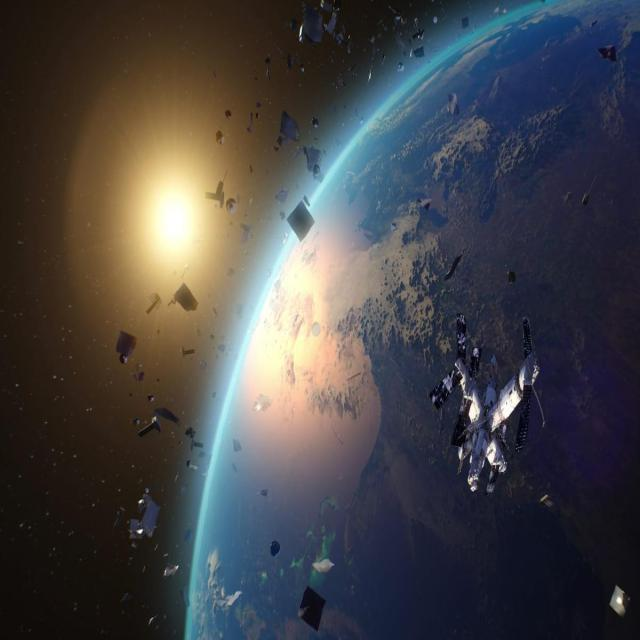large_debris: (283, 0, 354, 52), (129, 494, 159, 540), (298, 587, 325, 632), (286, 200, 314, 241), (303, 145, 324, 182), (208, 333, 236, 360), (367, 24, 386, 62), (173, 282, 197, 311), (115, 330, 135, 364), (611, 585, 631, 619), (444, 248, 465, 280), (279, 109, 300, 140), (204, 176, 225, 207), (137, 416, 161, 438), (153, 408, 180, 426), (582, 173, 597, 205), (252, 393, 273, 410), (145, 292, 161, 314), (111, 507, 124, 532), (598, 44, 617, 61), (243, 187, 253, 219), (388, 3, 403, 24), (312, 559, 334, 573), (395, 30, 407, 55), (173, 262, 190, 279), (490, 4, 508, 20), (240, 223, 253, 243), (448, 91, 459, 114), (163, 564, 178, 579), (540, 494, 554, 509), (132, 364, 144, 381), (347, 63, 358, 81), (417, 197, 431, 211), (275, 188, 288, 202), (225, 197, 236, 212), (181, 347, 195, 358), (246, 111, 253, 133), (234, 304, 243, 321), (269, 542, 279, 557), (184, 427, 195, 440), (190, 440, 203, 451), (412, 45, 425, 56), (412, 27, 425, 38), (334, 77, 344, 91), (119, 593, 131, 604), (215, 129, 224, 143), (227, 266, 236, 280), (186, 460, 197, 471), (147, 615, 157, 627), (232, 439, 241, 452), (589, 18, 599, 29), (173, 468, 180, 483), (302, 194, 310, 207), (508, 270, 516, 283), (293, 145, 301, 158), (198, 360, 208, 370), (286, 52, 292, 68), (179, 485, 187, 497), (195, 325, 202, 338), (257, 489, 268, 497), (462, 15, 469, 27), (248, 162, 254, 175), (311, 116, 318, 127), (334, 137, 342, 146), (162, 549, 170, 558), (368, 66, 372, 83), (354, 109, 360, 120), (413, 15, 418, 28), (132, 418, 140, 426), (147, 393, 154, 402), (211, 392, 218, 401), (225, 108, 231, 118), (341, 102, 346, 114), (212, 306, 218, 316), (212, 68, 218, 78), (283, 233, 288, 244), (277, 135, 282, 145), (390, 223, 397, 230), (266, 67, 270, 79), (279, 211, 285, 219), (265, 54, 270, 63), (255, 101, 261, 108), (312, 136, 318, 143), (228, 220, 234, 227), (433, 16, 438, 24), (334, 104, 338, 114), (266, 168, 270, 178), (153, 544, 158, 552), (300, 63, 304, 72), (156, 375, 160, 384), (141, 564, 145, 573), (296, 183, 301, 190), (132, 542, 137, 549), (237, 193, 240, 204), (244, 248, 248, 256), (156, 328, 160, 336), (128, 391, 132, 398), (273, 145, 278, 150), (254, 74, 258, 80), (178, 440, 182, 446), (171, 445, 175, 451), (410, 47, 412, 56), (323, 148, 326, 154), (256, 112, 258, 119), (398, 66, 402, 69)
medium_debris: (429, 313, 540, 495)
